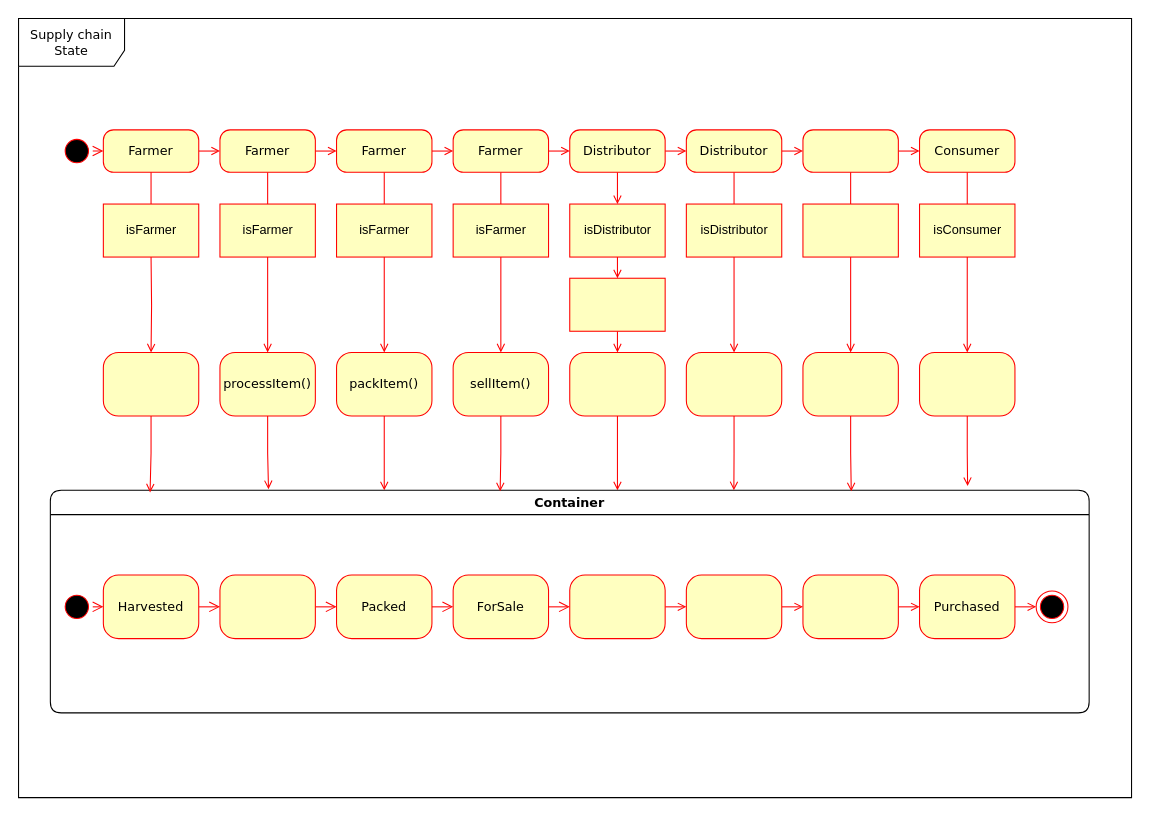
This 1150x816 diagram has some shape labels left out. The shapes that lost their labels are listed below. From the top down, each one's centre as x and y in pixels, then its label:
(x=850, y=150): Retailer
(x=850, y=230): isRetailer
(x=617, y=304): paidEnough
(x=150, y=383): harvestItem()
(x=617, y=383): buyItem()
(x=733, y=383): shipItem()
(x=850, y=383): receiveItem()
(x=966, y=383): purchaseItem()
(x=267, y=606): Processed
(x=617, y=606): Sold
(x=733, y=606): Shipped
(x=850, y=606): Received
